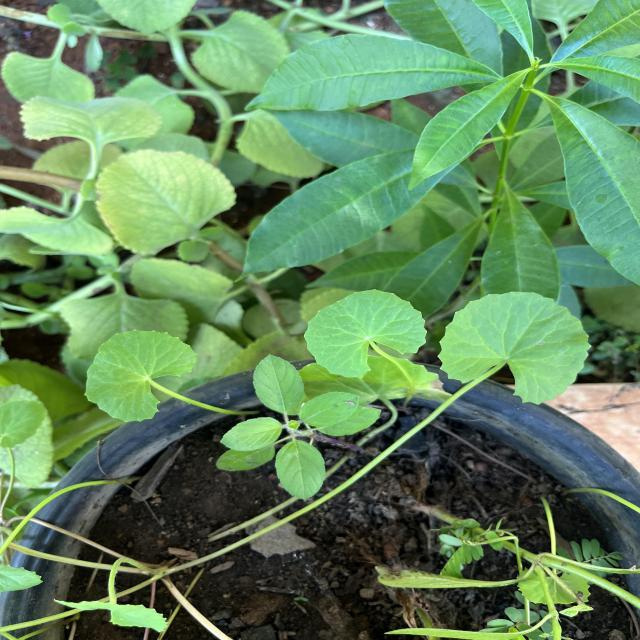Centella asiatica: (435, 289, 594, 406), (301, 286, 430, 380), (82, 326, 201, 424)
